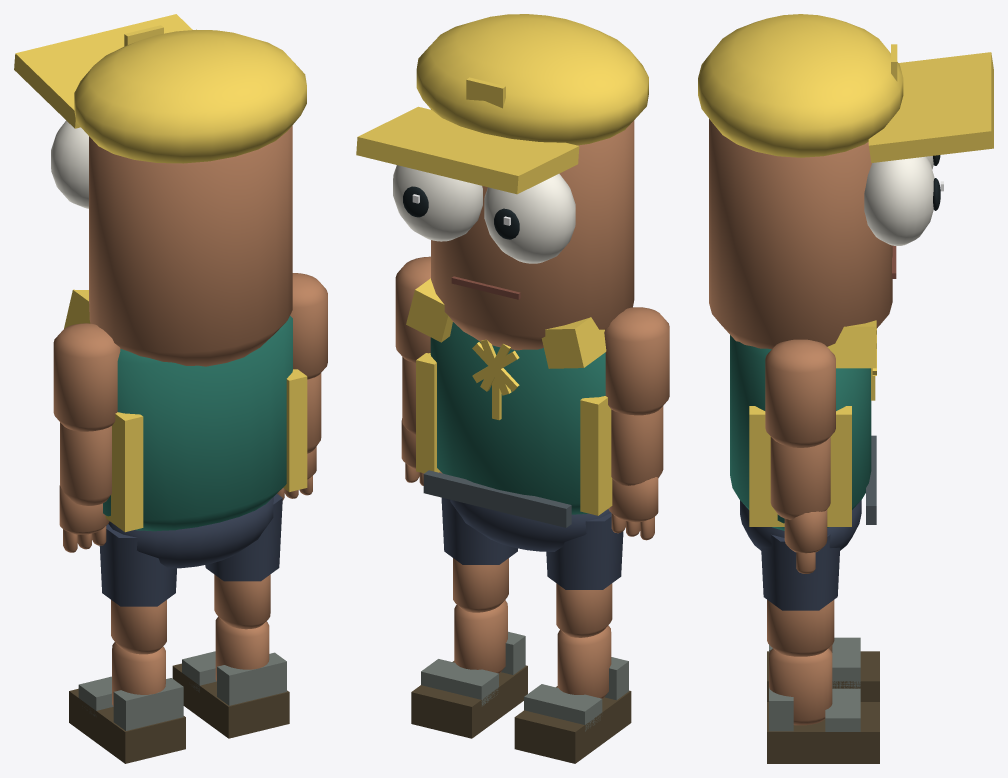
Rendered from spectator_6.glb.
3 renders of one model, left to right at view 1: azimuth 30°, elevation 25°; view 2: azimuth 150°, elevation 25°; view 3: azimuth 270°, elevation 25°, orthographic.
Parts seen in each view (by area): view 1: Head, RallySpectator, LeftShin, RightShin, LeftLeg, LeftArm, LeftForearm, RightLeg, RightArm, RightForearm; view 2: Head, RallySpectator, LeftShin, RightShin, LeftLeg, LeftArm, LeftForearm, RightLeg, RightArm, RightForearm; view 3: Head, RallySpectator, RightShin, RightLeg, RightArm, RightForearm, LeftShin.
Boxes of the visible parts, x1=… form: Head: x1=14, y1=14, x2=306, y2=366; RallySpectator: x1=64, y1=289, x2=307, y2=568; LeftShin: x1=69, y1=642, x2=185, y2=763; RightShin: x1=172, y1=616, x2=289, y2=738; LeftLeg: x1=99, y1=524, x2=176, y2=654; LeftArm: x1=53, y1=323, x2=120, y2=431; LeftForearm: x1=59, y1=422, x2=111, y2=552; RightLeg: x1=205, y1=494, x2=282, y2=629; RightArm: x1=290, y1=273, x2=327, y2=379; RightForearm: x1=277, y1=373, x2=321, y2=500; Head: x1=356, y1=14, x2=648, y2=350; RallySpectator: x1=406, y1=278, x2=612, y2=551; LeftShin: x1=514, y1=625, x2=631, y2=763; RightShin: x1=411, y1=600, x2=527, y2=738; LeftLeg: x1=546, y1=513, x2=623, y2=637; LeftArm: x1=604, y1=307, x2=669, y2=415; LeftForearm: x1=608, y1=406, x2=663, y2=540; RightLeg: x1=441, y1=497, x2=517, y2=612; RightArm: x1=395, y1=256, x2=430, y2=363; RightForearm: x1=401, y1=357, x2=442, y2=485; Head: x1=698, y1=14, x2=993, y2=349; RallySpectator: x1=730, y1=320, x2=876, y2=550; RightShin: x1=767, y1=648, x2=879, y2=763; RightLeg: x1=761, y1=534, x2=840, y2=656; RightArm: x1=765, y1=339, x2=835, y2=447; RightForearm: x1=770, y1=437, x2=830, y2=573; LeftShin: x1=767, y1=637, x2=879, y2=701.
Size of the model in its own units: 0.87 by 2.15 by 0.8376.
